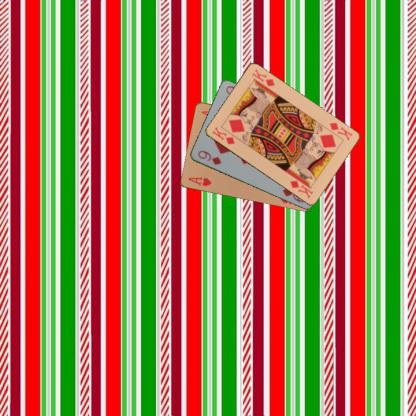9d: (195, 148, 222, 166)
Ah: (186, 174, 212, 188)
Kd: (326, 119, 354, 142), (209, 124, 236, 146)
